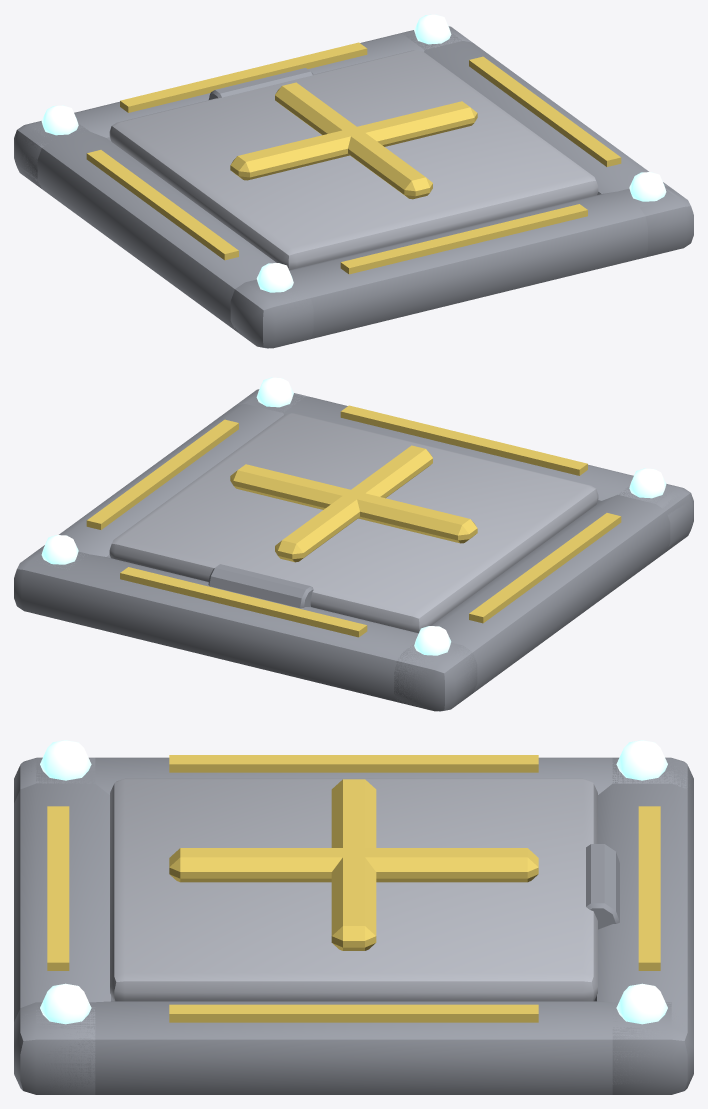
The model's file is exit_door.glb.
The picture shows the model from 3 angles, top to bottom: view 1: azimuth 30°, elevation 25°; view 2: azimuth 150°, elevation 25°; view 3: azimuth 270°, elevation 25°; orthographic projection. The views are drawn at different scales.
Parts seen in each view (by area): view 1: exit_door, lid; view 2: exit_door, lid; view 3: exit_door, lid.
Boxes of the visible parts, x1,y1,x2,y2 form: exit_door: (14, 14, 693, 348); lid: (109, 50, 598, 270); exit_door: (14, 377, 693, 711); lid: (109, 413, 598, 633); exit_door: (14, 740, 693, 1094); lid: (110, 778, 619, 1001).
Bounding box in the file's own units: 0.92 × 0.16 × 0.92.
